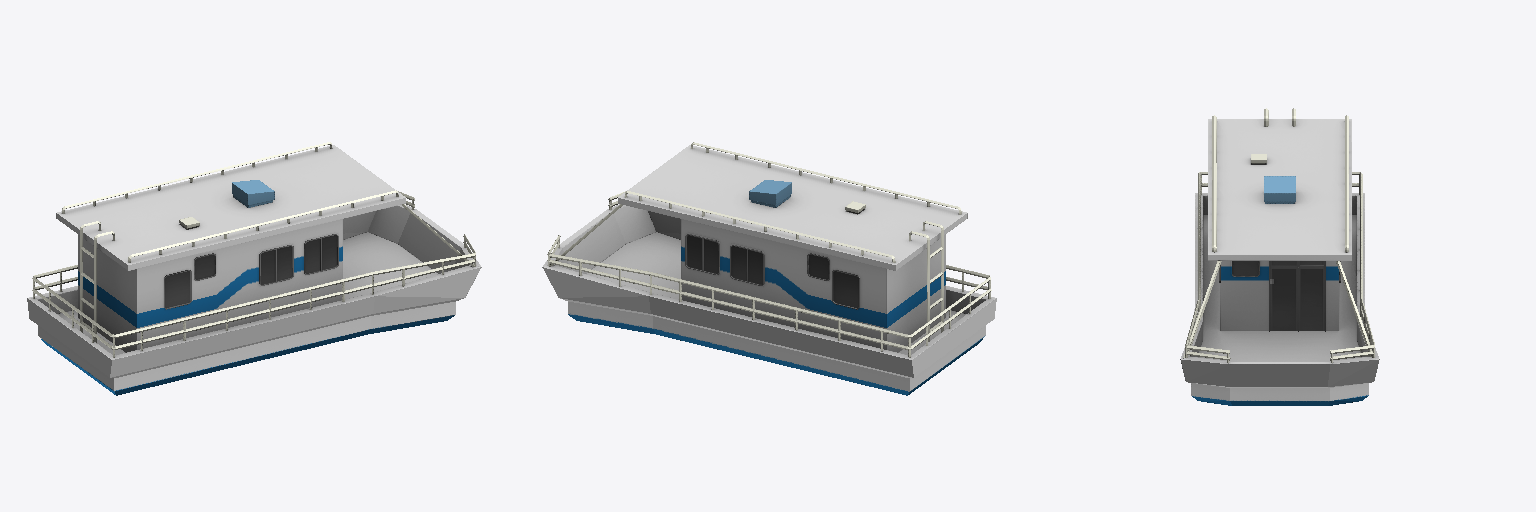
The picture shows the model from 3 angles: view 1: azimuth 30°, elevation 25°; view 2: azimuth 150°, elevation 25°; view 3: azimuth 270°, elevation 25°; orthographic projection.
Parts seen in each view (by area): view 1: Houseboat_mesh; view 2: Houseboat_mesh; view 3: Houseboat_mesh.
Boxes of the visible parts, x1=… form: Houseboat_mesh: x1=27, y1=142, x2=481, y2=395; Houseboat_mesh: x1=542, y1=142, x2=996, y2=395; Houseboat_mesh: x1=1180, y1=108, x2=1379, y2=405.
Bounding box in the file's own units: 17.64 × 6.48 × 8.17.
Materials: 1 (1 with a texture image).